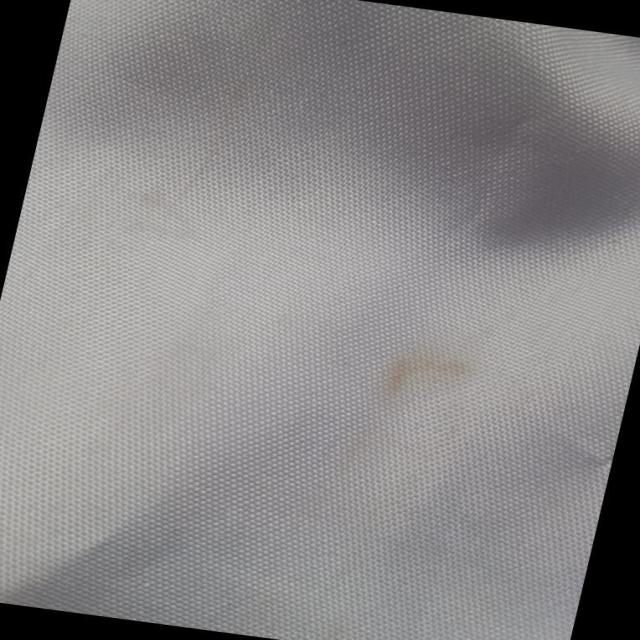stain: (363, 334, 488, 437)
